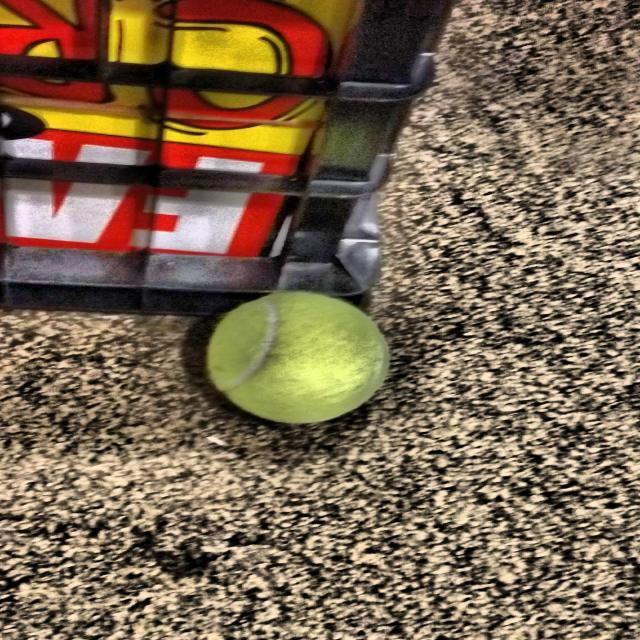tennis-ball: (204, 279, 396, 435)
